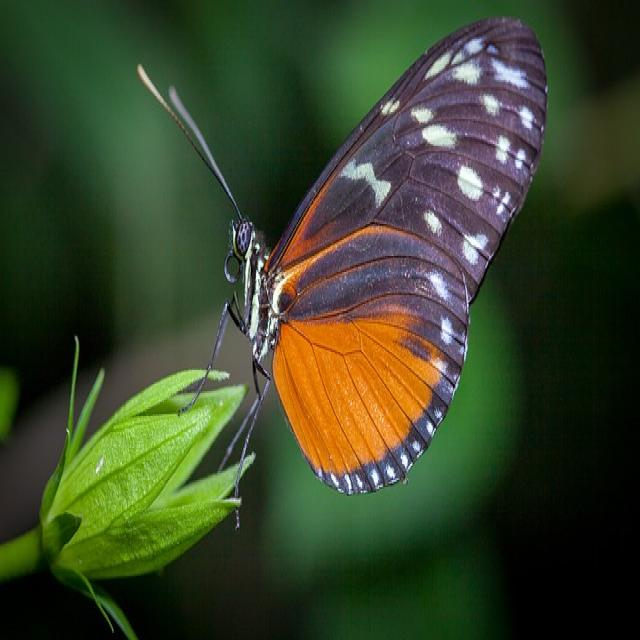butterfly: (139, 18, 548, 492)
